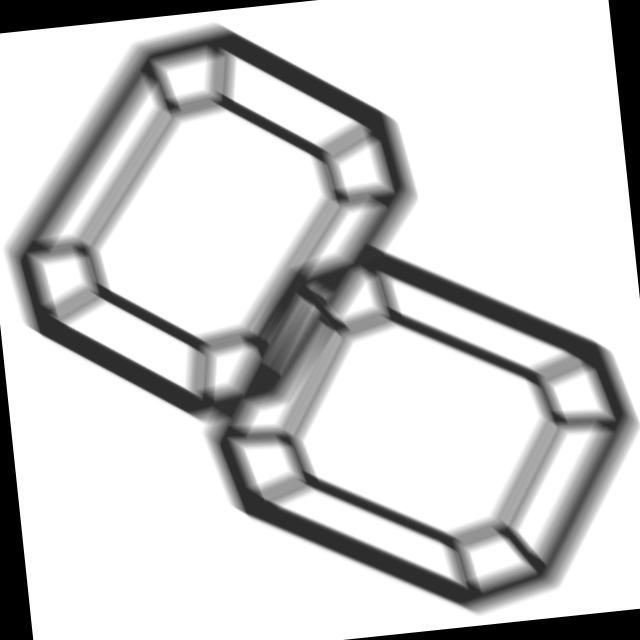emerald: (176, 209, 640, 640), (1, 1, 449, 444)
